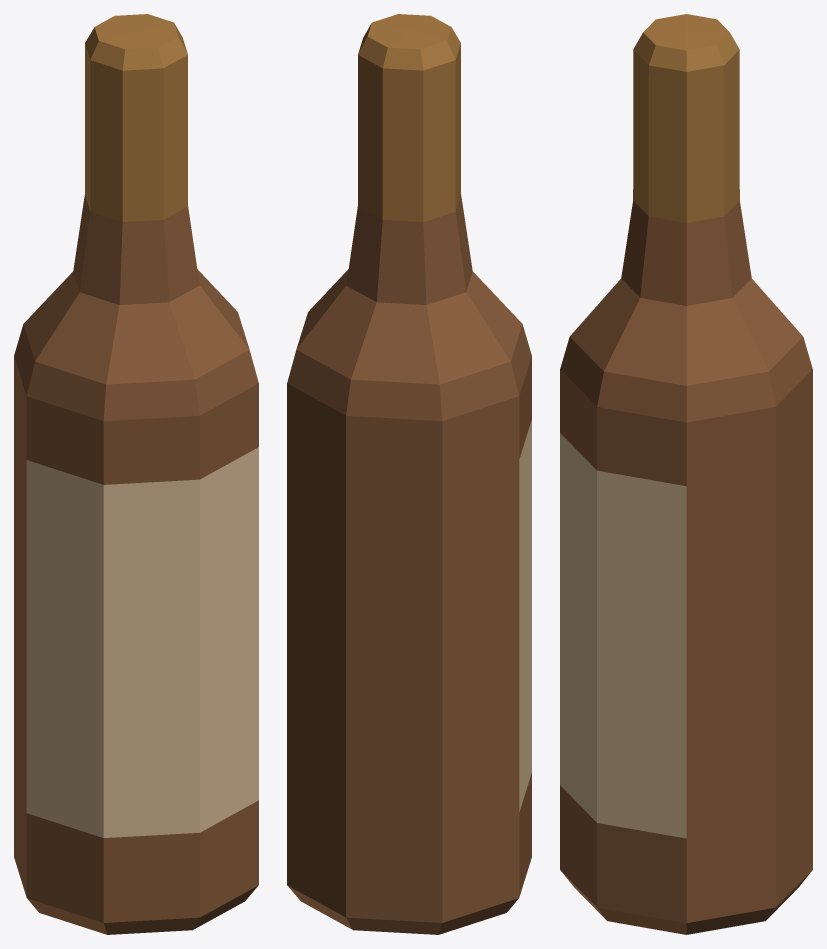
Rendered from rum-bottle.fbx.
3 renders of one model, left to right at view 1: azimuth 30°, elevation 25°; view 2: azimuth 150°, elevation 25°; view 3: azimuth 270°, elevation 25°, orthographic.
Parts seen in each view (by area): view 1: rum-bottle; view 2: rum-bottle; view 3: rum-bottle.
Part boxes in pixels (x1,y1,x2,y2): rum-bottle: [14, 14, 258, 934]; rum-bottle: [287, 14, 531, 934]; rum-bottle: [560, 14, 812, 934].
Bounding box in the file's own units: 0.0847 × 0.3166 × 0.0847.
